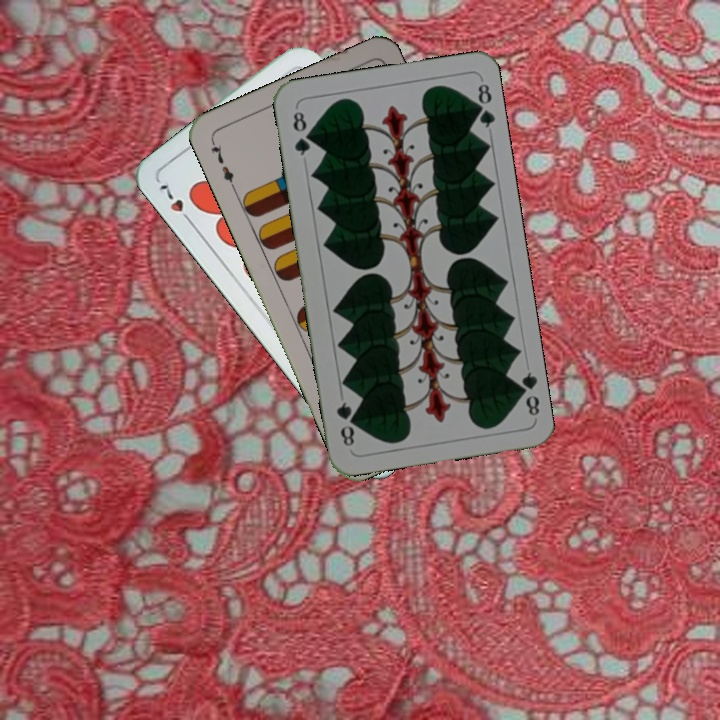E7: (207, 136, 238, 192)
G8: (511, 368, 542, 418), (288, 104, 313, 158)
H7: (155, 180, 196, 228)
